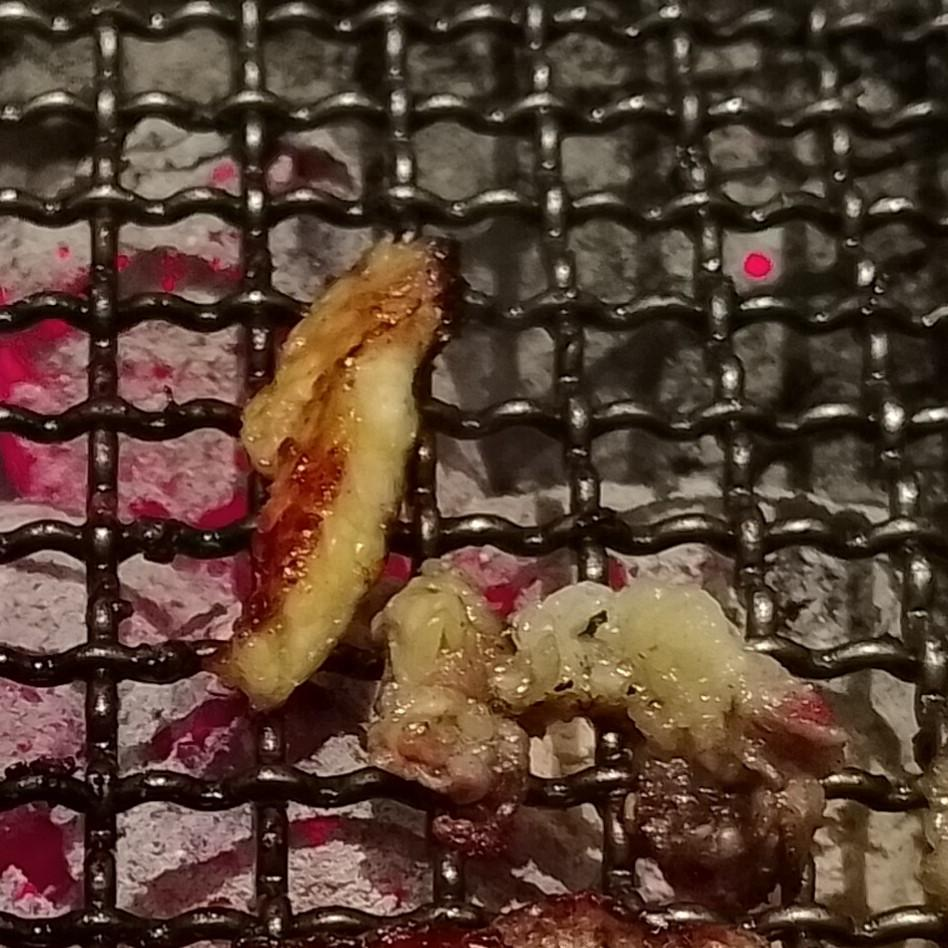Overcooked: (633, 751, 822, 913), (372, 893, 767, 947)
Well-Cooked: (218, 239, 449, 711), (486, 577, 845, 785), (366, 563, 527, 811)
